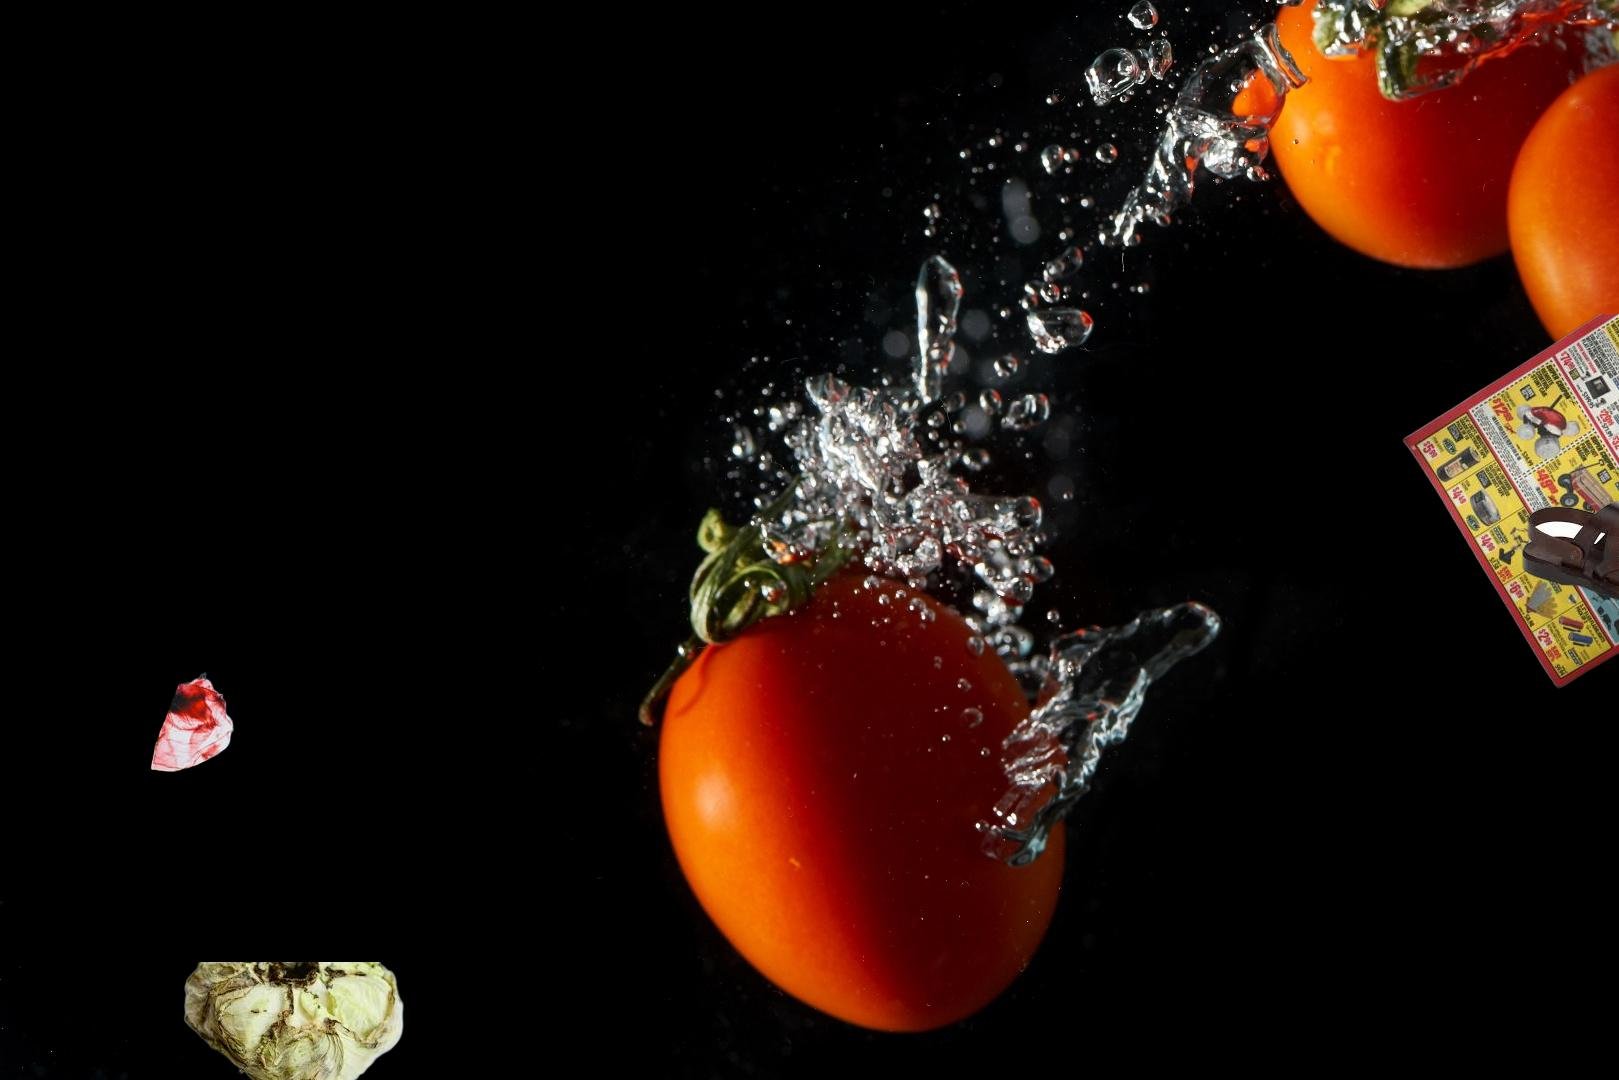biological: (181, 962, 407, 1080)
paper: (1398, 315, 1619, 691)
plastic-bag: (148, 669, 237, 775)
shoes: (1523, 498, 1619, 611)
trashbox-cardboard: (346, 959, 575, 1080)
